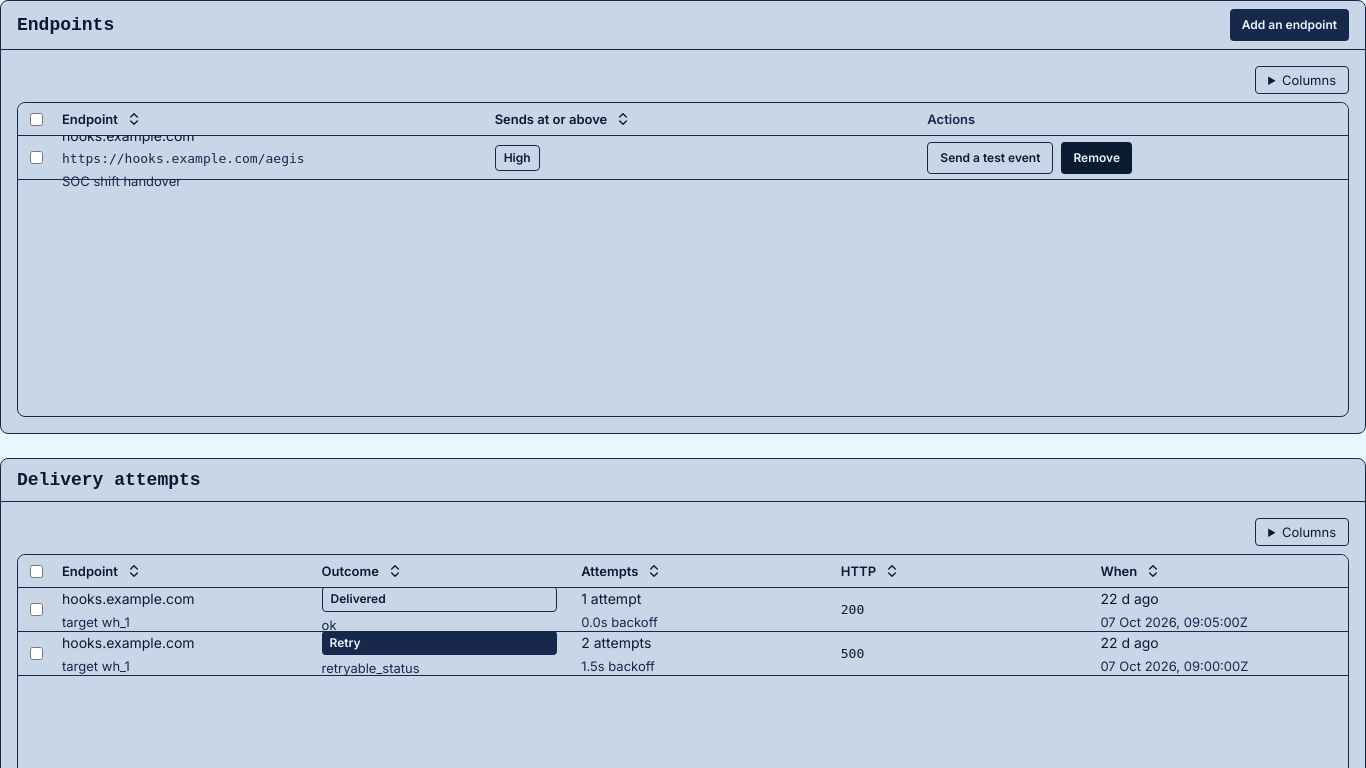
Test: ConnectorsPanel › shows the signing secret once, with the sentence that says so
Click the button "Add an endpoint". click: (1289, 25)
box: [1230, 9, 1349, 41]
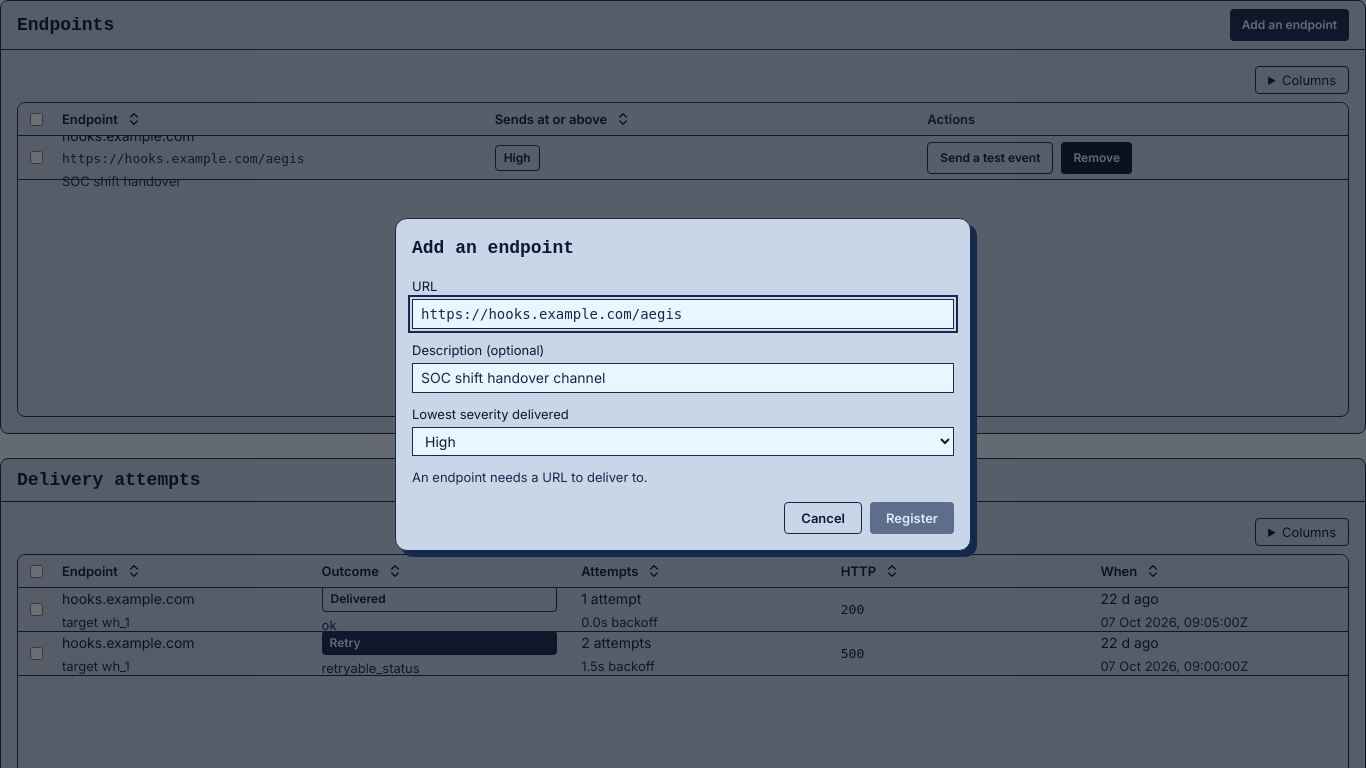
Type "https://hooks.example.com/critical" into the field labelled "URL". click: (683, 314)
box: [412, 298, 954, 328]
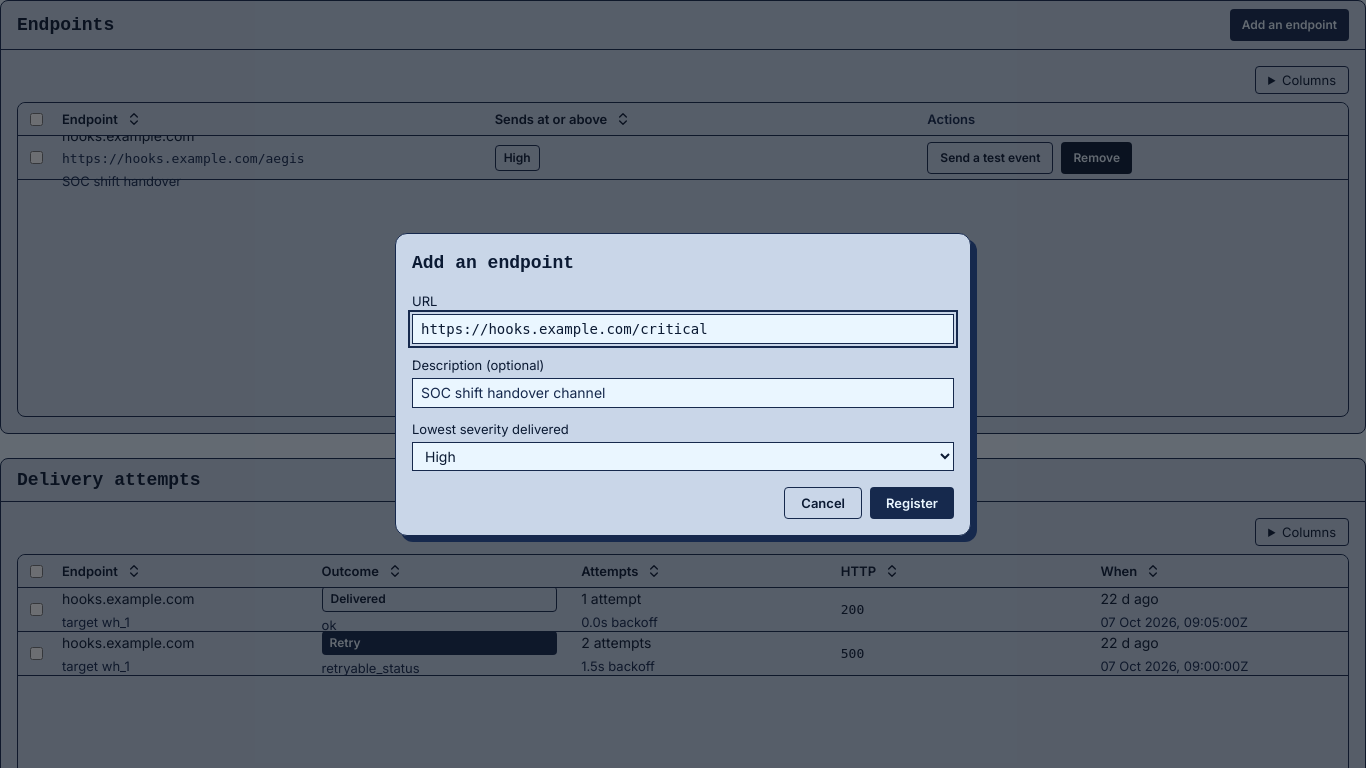
Click the button "Register". click: (912, 502)
box: [870, 486, 954, 518]
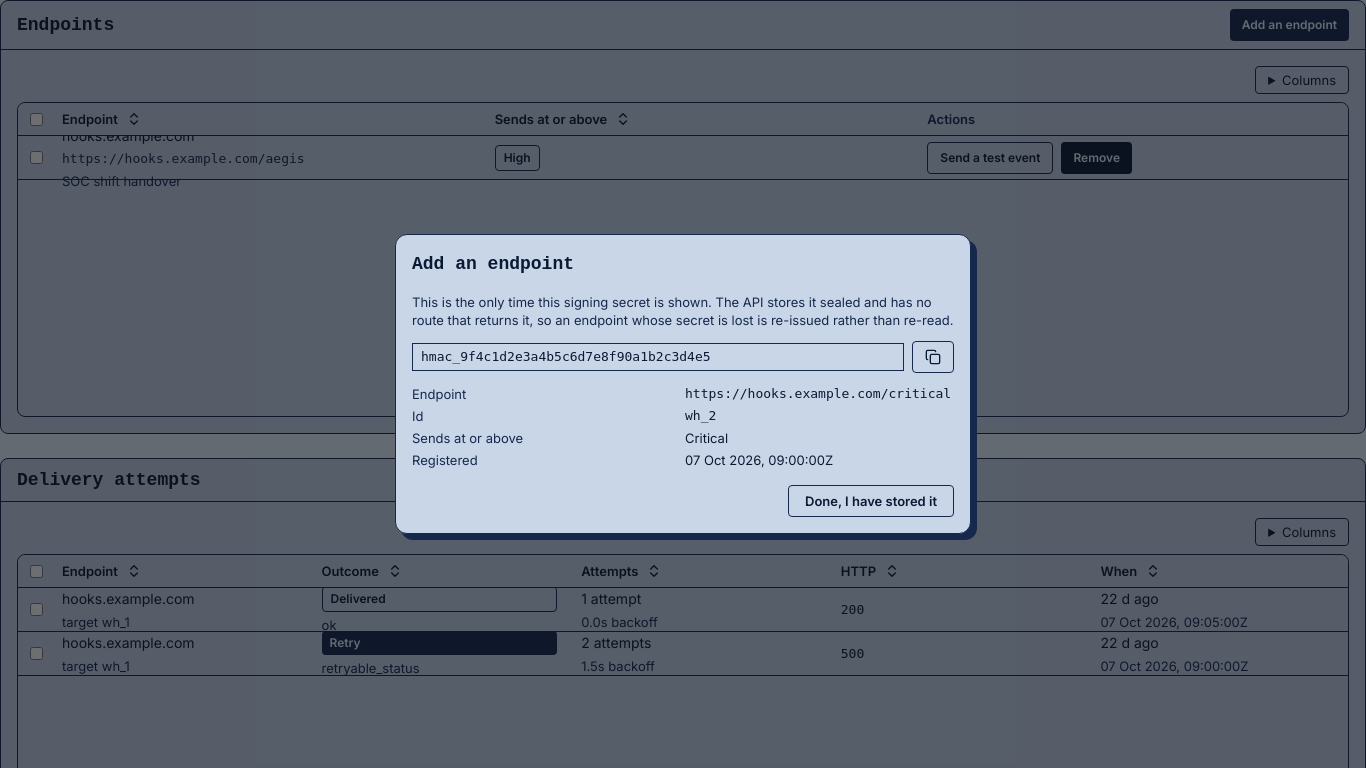
Expected: the field named "The signing secret" holds "hmac_9f4c1d2e3a4b5c6d7e8f90a1b2c3d4e5", [412, 343, 904, 371]
Expected: the text "has no route that returns it" is shown, [412, 294, 953, 328]
